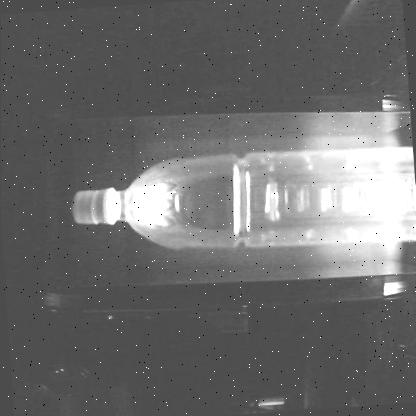Plastic Bottle: (71, 147, 404, 249)
